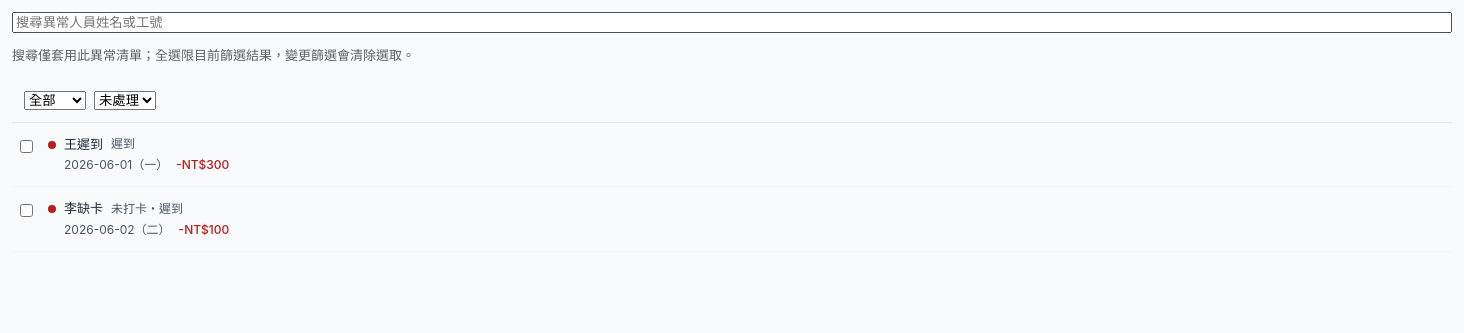
Test case: AnomalyQueueColumn › status filter=all → 已處理卡也顯示（篩選真的生效）
Select "全部" in the 2nd dropdown: (125,100) x1=94 y1=90 x2=156 y2=110
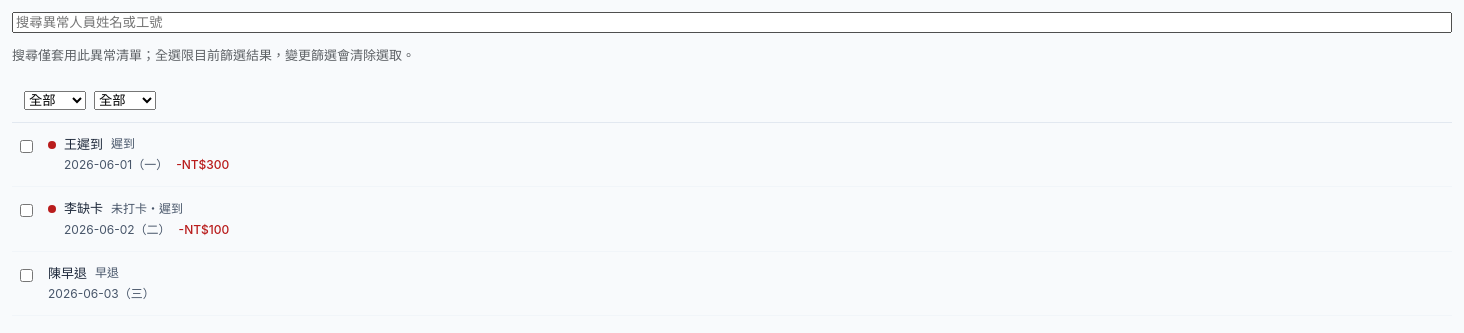
Expected: the text "陳早退" is shown, x1=48 y1=264 x2=87 y2=283
Expected: the number of list items with class "anomaly-item" is 3, x1=12 y1=122 x2=1452 y2=187; x1=12 y1=187 x2=1452 y2=252; x1=12 y1=252 x2=1452 y2=316
